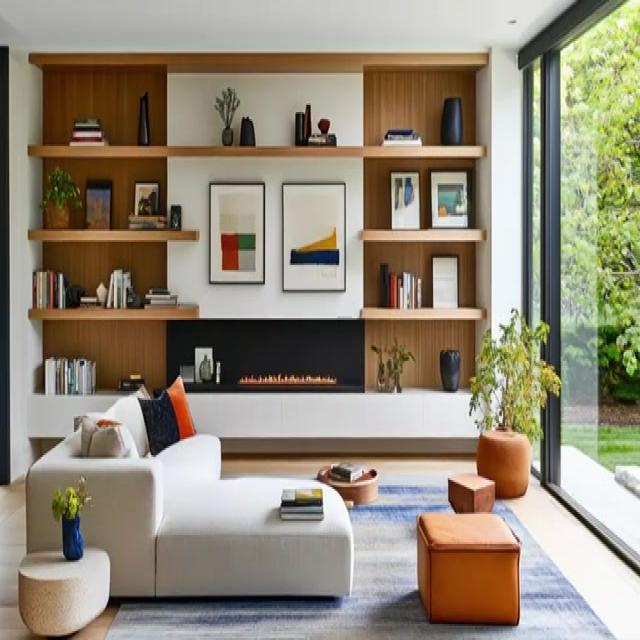obstacle: (29, 57, 490, 395), (25, 384, 354, 599)
